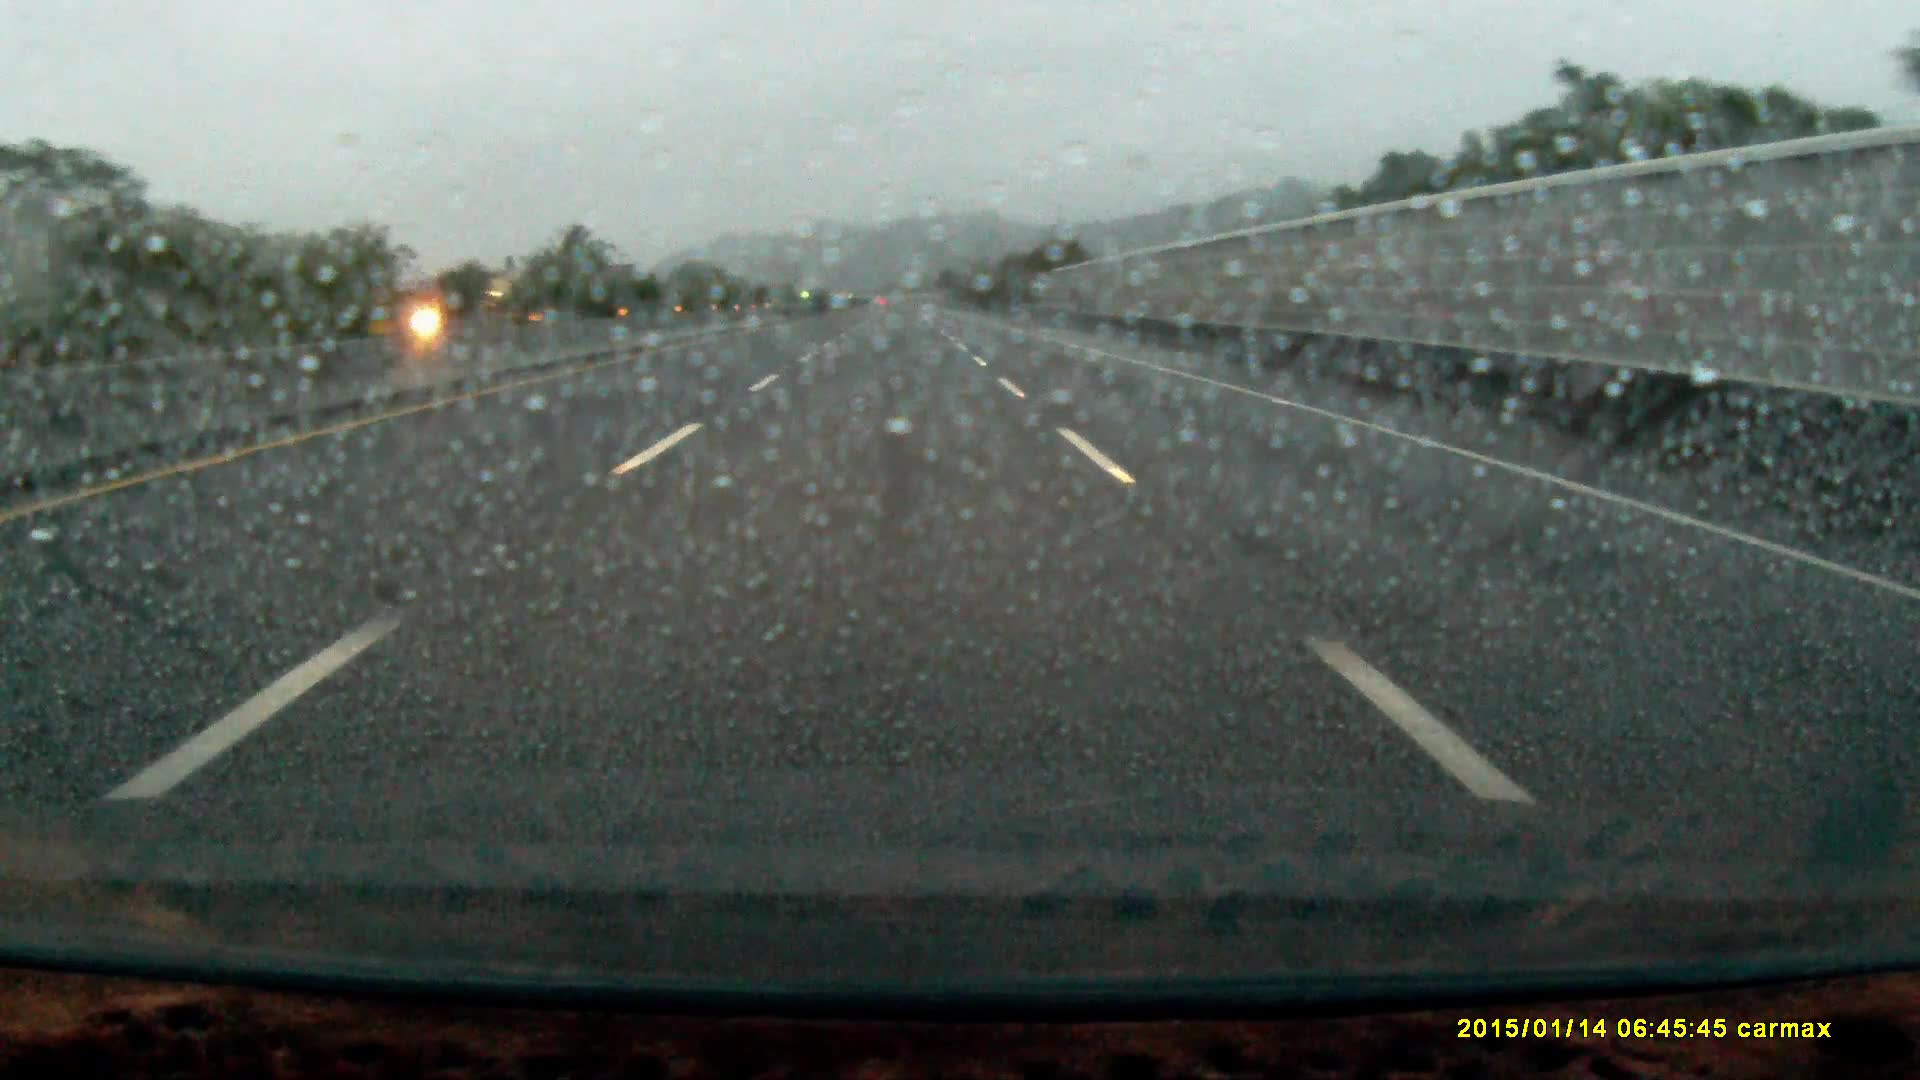vehicle: (421, 274, 520, 324)
